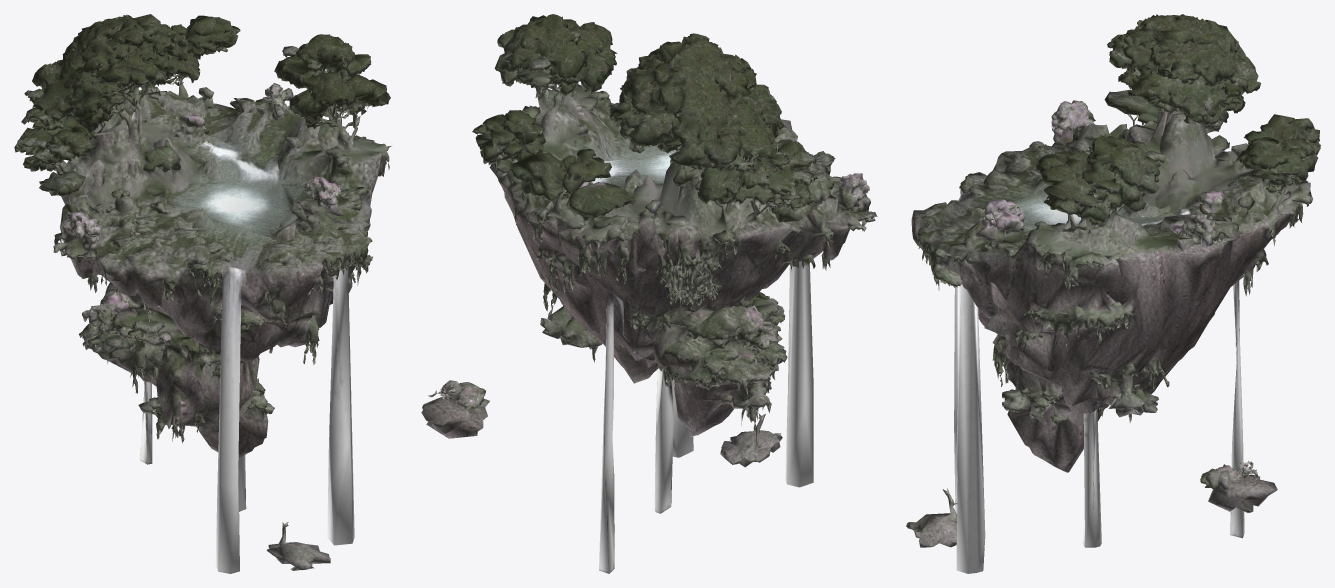
Rendered from island.glb.
The picture shows the model from 3 angles, left to right: view 1: azimuth 30°, elevation 25°; view 2: azimuth 150°, elevation 25°; view 3: azimuth 270°, elevation 25°; orthographic projection. The views are drawn at different scales.
Parts seen in each view (by area): view 1: Mesh_0; view 2: Mesh_0; view 3: Mesh_0.
Boxes of the visible parts, x1=… form: Mesh_0: x1=14, y1=14, x2=391, y2=573; Mesh_0: x1=421, y1=14, x2=877, y2=573; Mesh_0: x1=906, y1=14, x2=1320, y2=573.
Size of the model in its own units: 1.38 by 1.9 by 1.44.
1 material, 1 textured.
